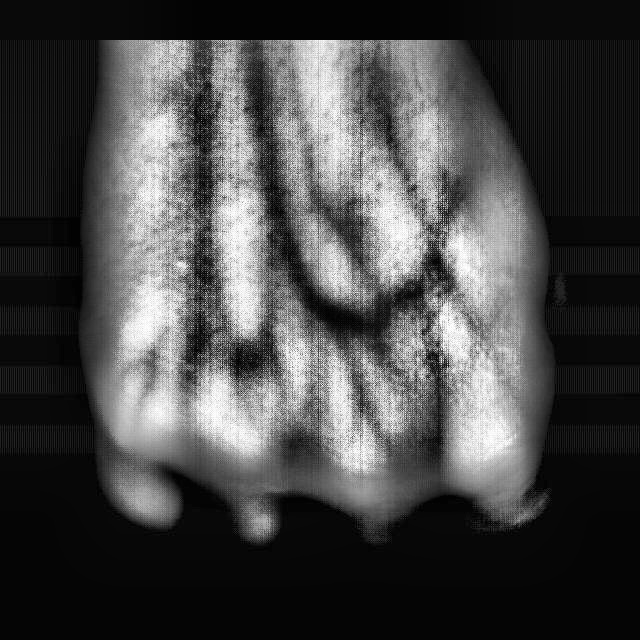Vein: (240, 54, 319, 300), (183, 68, 219, 276)
